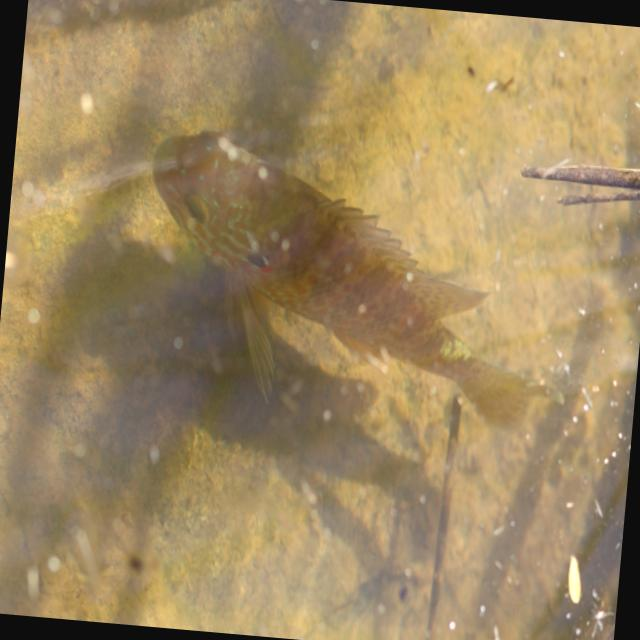Gunes Levregi: (125, 120, 566, 453)
